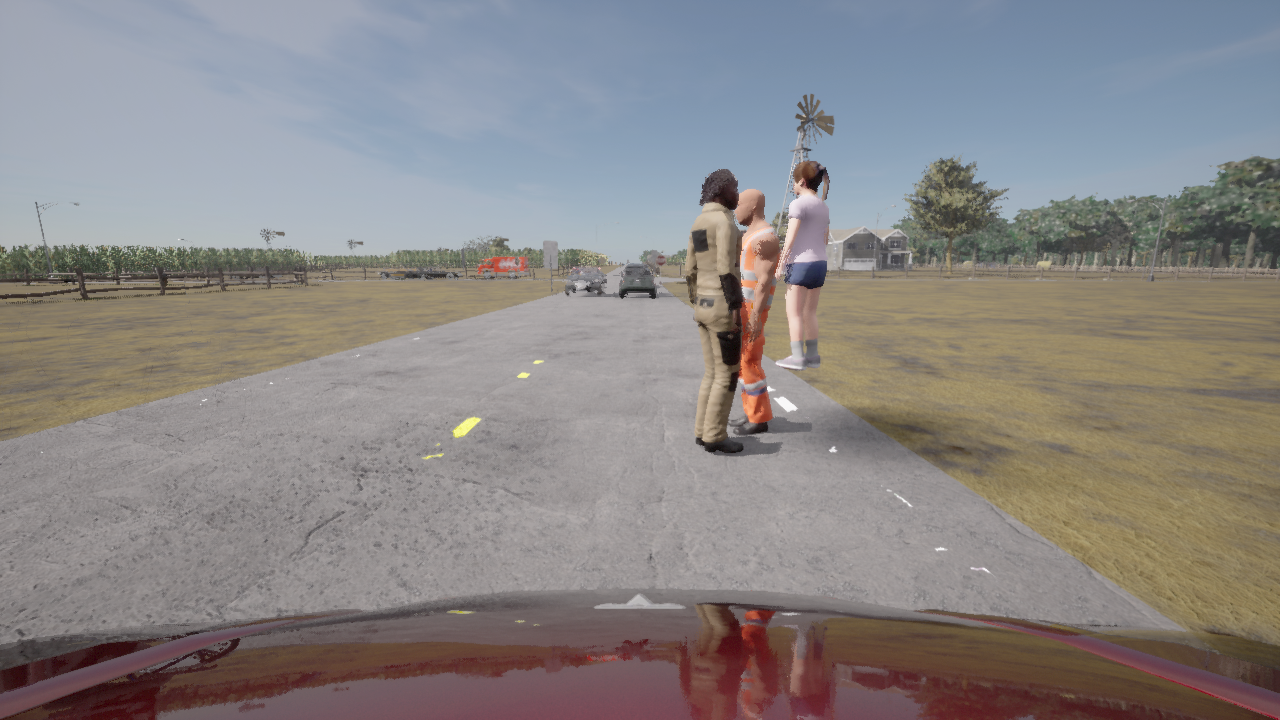cyclist: (0, 588, 1279, 719), (477, 256, 529, 279), (564, 267, 605, 296), (620, 264, 655, 297), (377, 263, 424, 279), (411, 267, 463, 280), (229, 269, 284, 279)
pedestrian: (686, 168, 743, 453), (727, 188, 780, 434), (775, 160, 830, 370), (163, 271, 166, 285)
